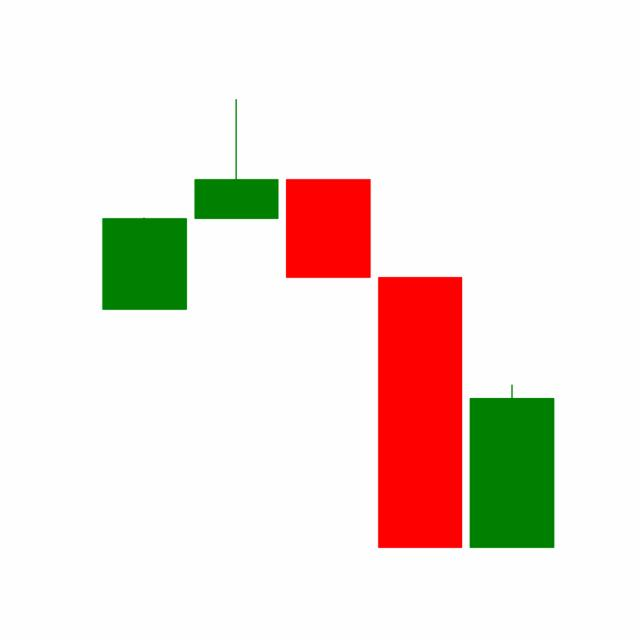Marubozu: (464, 382, 558, 550)
